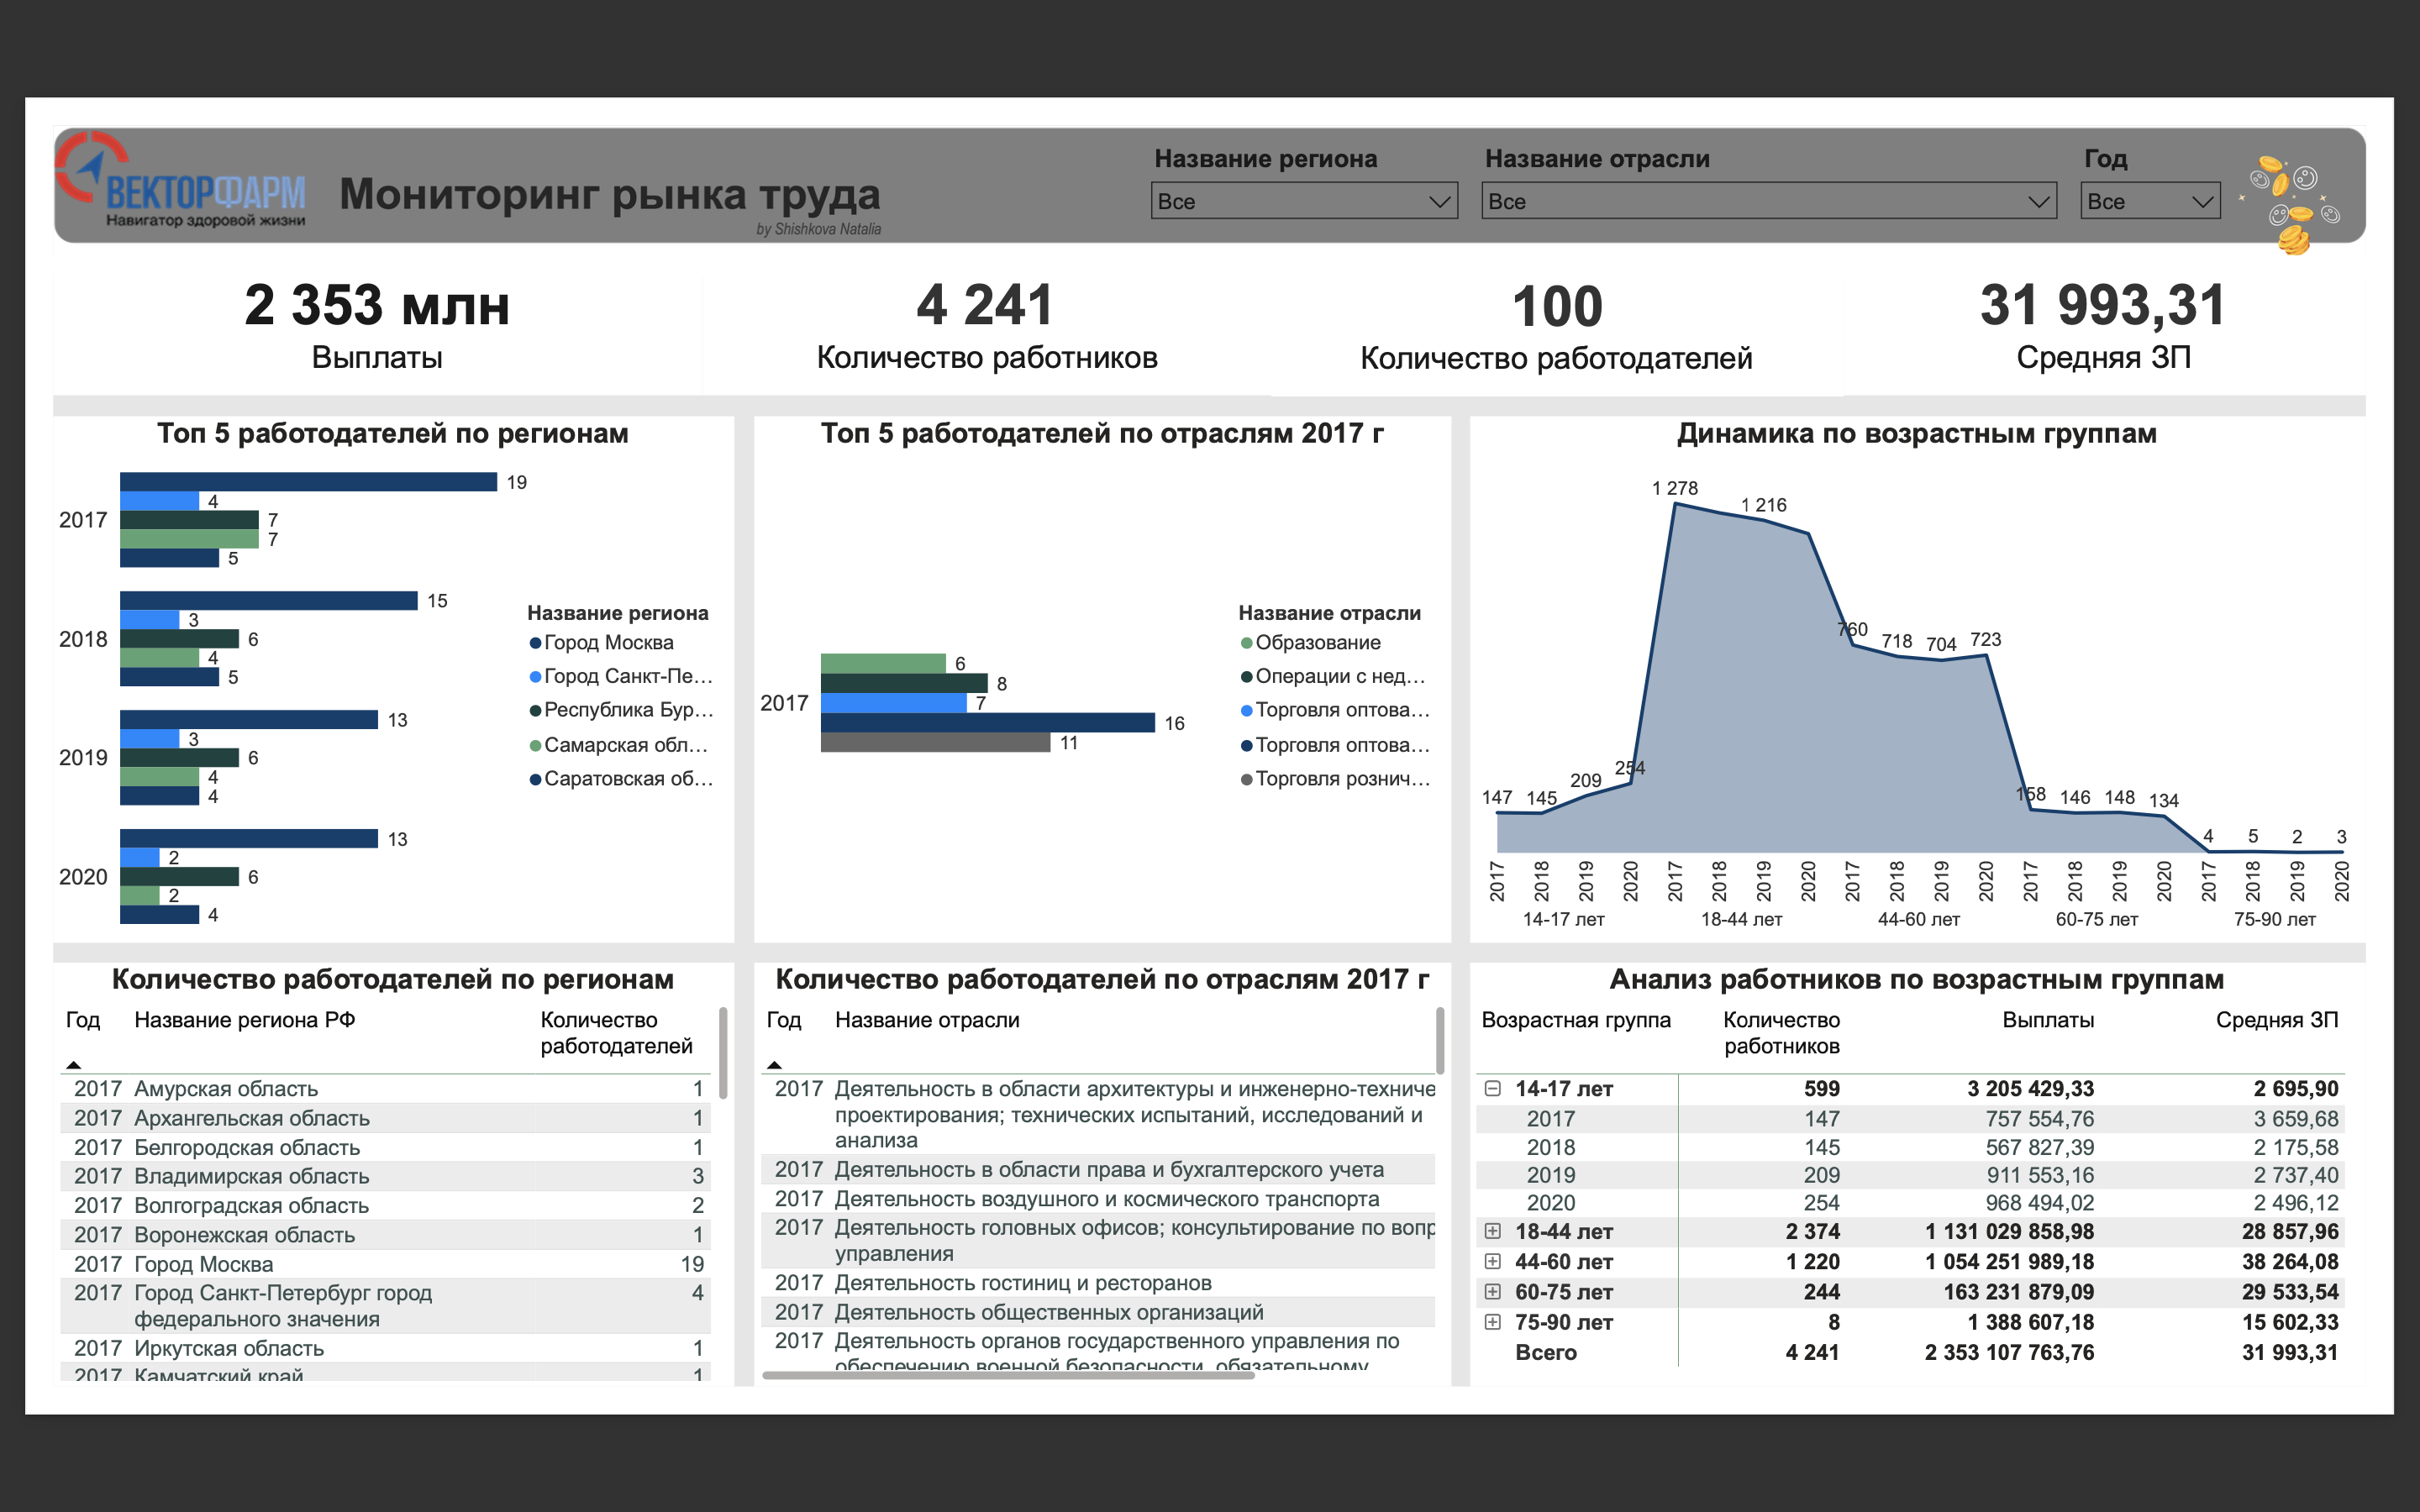

The page's visual inventory and layout, read from the dashboard file:
{"tool":"powerbi","page":{"name":"Дашборд_1","canvas":[1980,1080],"ordinal":0},"visuals":[{"type":"image","box":[0,0,1980,130],"z":0},{"type":"cardVisual","fields":{"Data":["выплаты работодателей работникам.Выплаты"]},"box":[0,111.4,555.7,120],"z":1000},{"type":"cardVisual","fields":{"Data":["выплаты работодателей работникам.Количество работников"]},"box":[555.7,111.4,488.6,120],"z":2000},{"type":"cardVisual","fields":{"Data":["выплаты работодателей работникам.Количество работодателей"]},"box":[1043.3,111.7,490,120],"z":3000},{"type":"cardVisual","fields":{"Data":["выплаты работодателей работникам.Средняя ЗП"]},"box":[1532.9,111.4,447.1,120],"z":4000},{"type":"slicer","fields":{"Values":["календарь.Год"]},"box":[1725.7,11.4,140,81.4],"z":5000},{"type":"slicer","fields":{"Values":["справочник отраслей.Название отрасли"]},"box":[1212.9,11.4,512.9,81.4],"z":6000},{"type":"slicer","fields":{"Values":["справочник ОКТМО (регионов РФ).Название региона РФ"]},"box":[930,11.4,282.9,81.4],"z":7000},{"type":"pivotTable","title":"Анализ работников по возрастным группам","fields":{"Rows":["работники.Возрастная группа","календарь.Год"],"Values":["выплаты работодателей работникам.Количество работников","выплаты работодателей работникам.Выплаты","выплаты работодателей работникам.Средняя ЗП"]},"box":[1212.9,717.1,767.1,362.9],"z":8000},{"type":"stackedAreaChart","title":"Динамика по возрастным группам","fields":{"Category":["работники.Возрастная группа","календарь.Год"],"Y":["выплаты работодателей работникам.Кол-во работников"]},"box":[1212.9,248.6,767.1,451.4],"z":9000},{"type":"clusteredBarChart","title":"Топ 5 работодателей по регионам","fields":{"Category":["календарь.Год"],"Y":["выплаты работодателей работникам.Кол-во работодателей"],"Series":["справочник ОКТМО (регионов РФ).Название региона РФ"]},"box":[0,248.6,582.9,451.4],"z":10000},{"type":"tableEx","title":"Количество работодателей по регионам","fields":{"Values":["календарь.Год","справочник ОКТМО (регионов РФ).Название региона РФ","выплаты работодателей работникам.Количество работодателей"]},"box":[0,717.1,582.9,362.9],"z":11000},{"type":"clusteredBarChart","title":"Топ 5 работодателей по отраслям  2017 г","fields":{"Category":["календарь.Год"],"Y":["выплаты работодателей работникам.Кол-во работодателей"],"Series":["справочник отраслей.Название отрасли"]},"box":[600,248.6,597.1,451.4],"z":12000},{"type":"tableEx","title":"Количество работодателей по отраслям  2017 г","fields":{"Values":["календарь.Год","справочник отраслей.Название отрасли","выплаты работодателей работникам.Количество работодателей"]},"box":[600,717.1,597.1,362.9],"z":13000}]}

Visuals, with their boxes on the page's 1980x1080 design canvas (x1, y1, x2, y2). These are canvas units, not pixel positions in the 2420x1512 screenshot, which may show the page scaled, cropped or inside an application window:
image: locate(0, 0, 1980, 130)
cardVisual - выплаты работодателей работникам.Выплаты: locate(0, 111, 556, 231)
cardVisual - выплаты работодателей работникам.Количество работников: locate(556, 111, 1044, 231)
cardVisual - выплаты работодателей работникам.Количество работодателей: locate(1043, 112, 1533, 232)
cardVisual - выплаты работодателей работникам.Средняя ЗП: locate(1533, 111, 1980, 231)
slicer - календарь.Год: locate(1726, 11, 1866, 93)
slicer - справочник отраслей.Название отрасли: locate(1213, 11, 1726, 93)
slicer - справочник ОКТМО (регионов РФ).Название региона РФ: locate(930, 11, 1213, 93)
"Анализ работников по возрастным группам" pivotTable: locate(1213, 717, 1980, 1080)
"Динамика по возрастным группам" stackedAreaChart: locate(1213, 249, 1980, 700)
"Топ 5 работодателей по регионам" clusteredBarChart: locate(0, 249, 583, 700)
"Количество работодателей по регионам" tableEx: locate(0, 717, 583, 1080)
"Топ 5 работодателей по отраслям  2017 г" clusteredBarChart: locate(600, 249, 1197, 700)
"Количество работодателей по отраслям  2017 г" tableEx: locate(600, 717, 1197, 1080)
